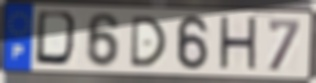6: (175, 13, 212, 74), (85, 11, 121, 71)
7: (266, 16, 303, 74)
D: (33, 9, 83, 70), (128, 15, 169, 69)
H: (217, 14, 259, 75)
